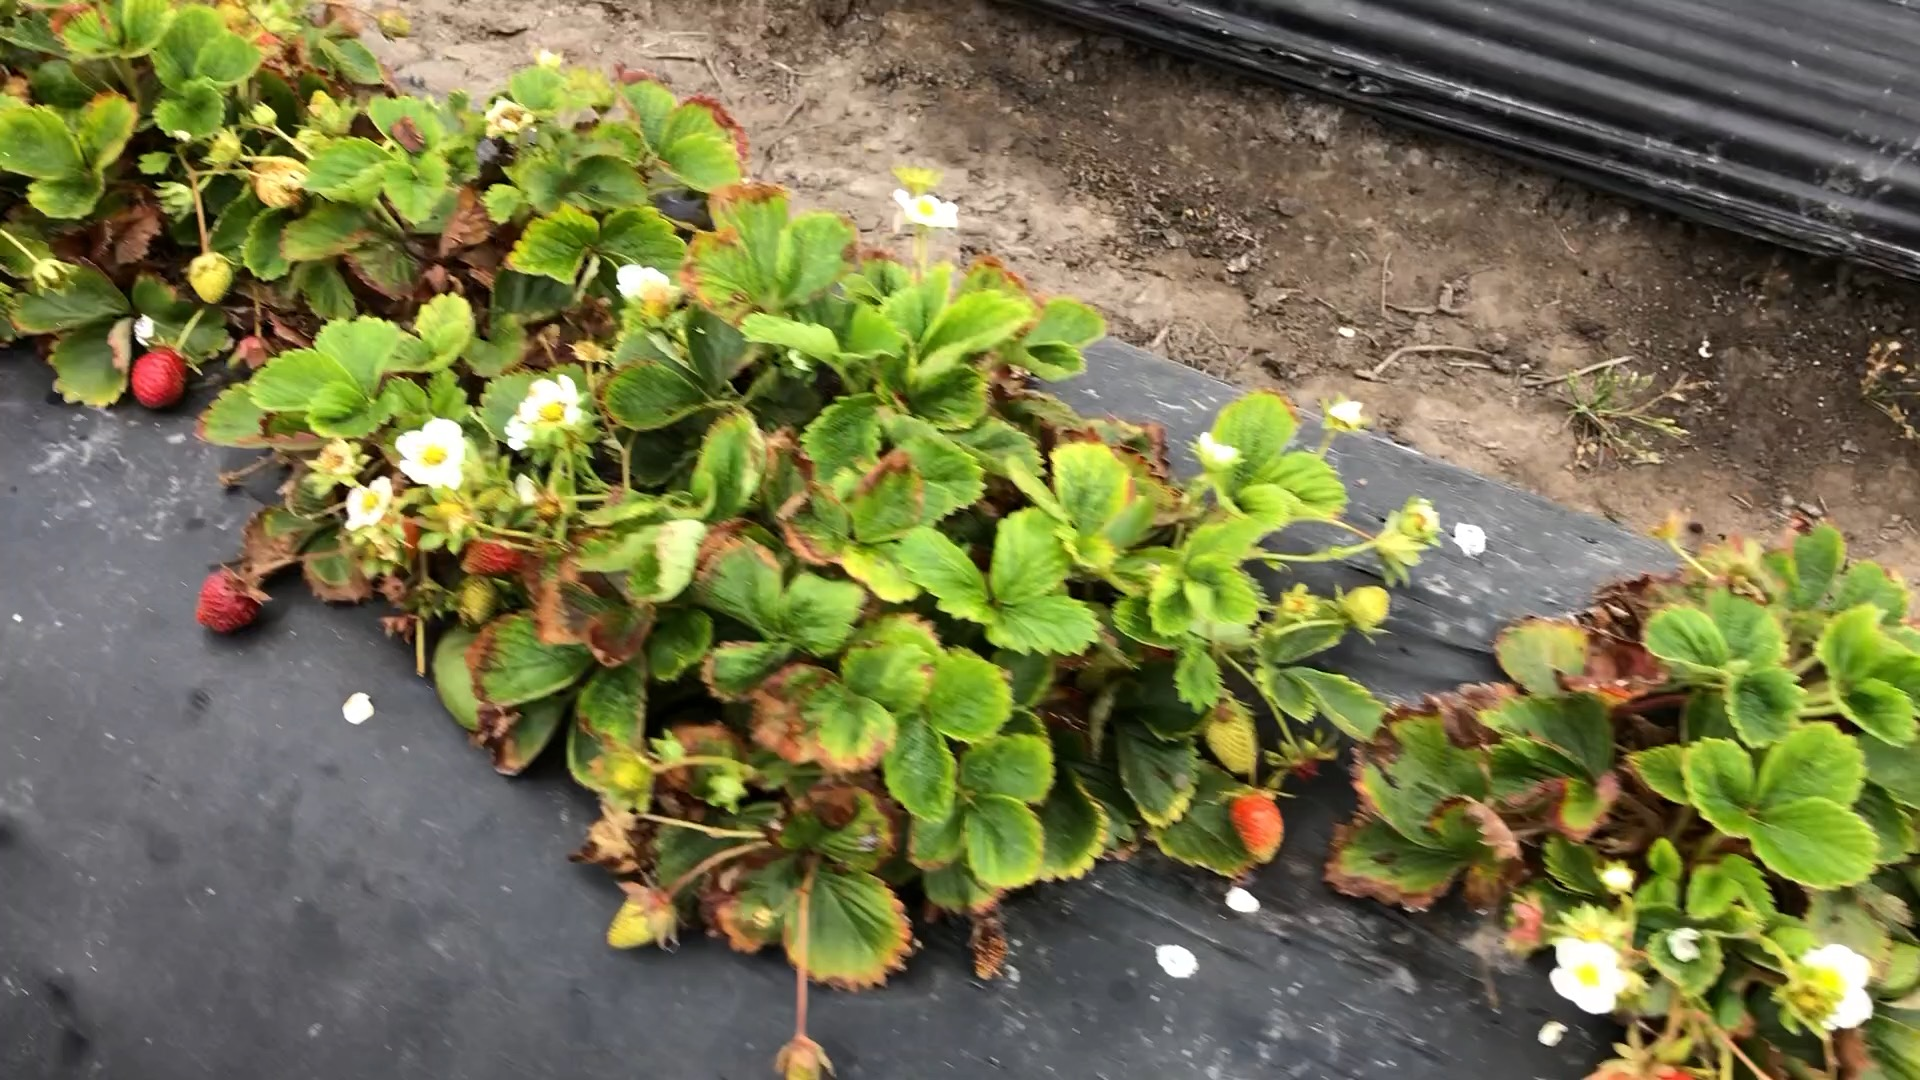ripe_strawberry: (196, 566, 268, 640), (131, 339, 193, 417), (464, 530, 527, 578)
unripe_strawberry: (607, 887, 684, 959), (1226, 787, 1288, 868), (1205, 700, 1265, 774), (185, 253, 237, 309), (1342, 582, 1396, 634), (462, 575, 501, 629)
